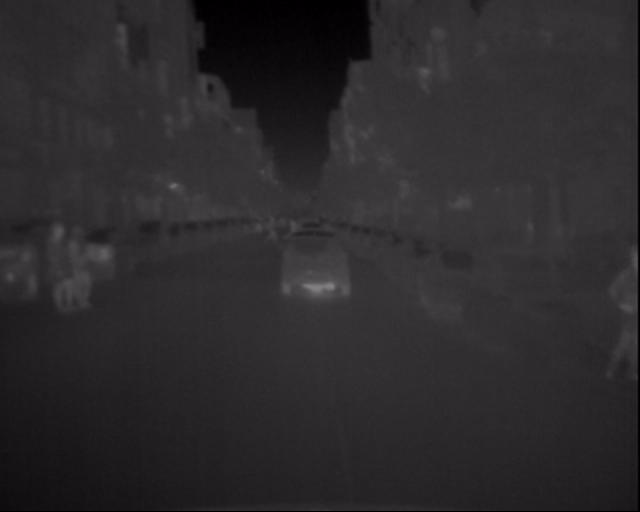person: (25, 215, 86, 341), (545, 204, 576, 270)
